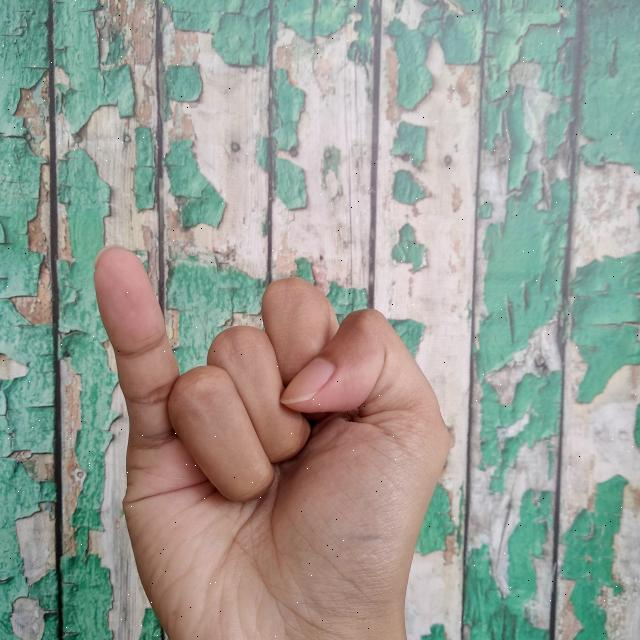I: (89, 240, 462, 640)
